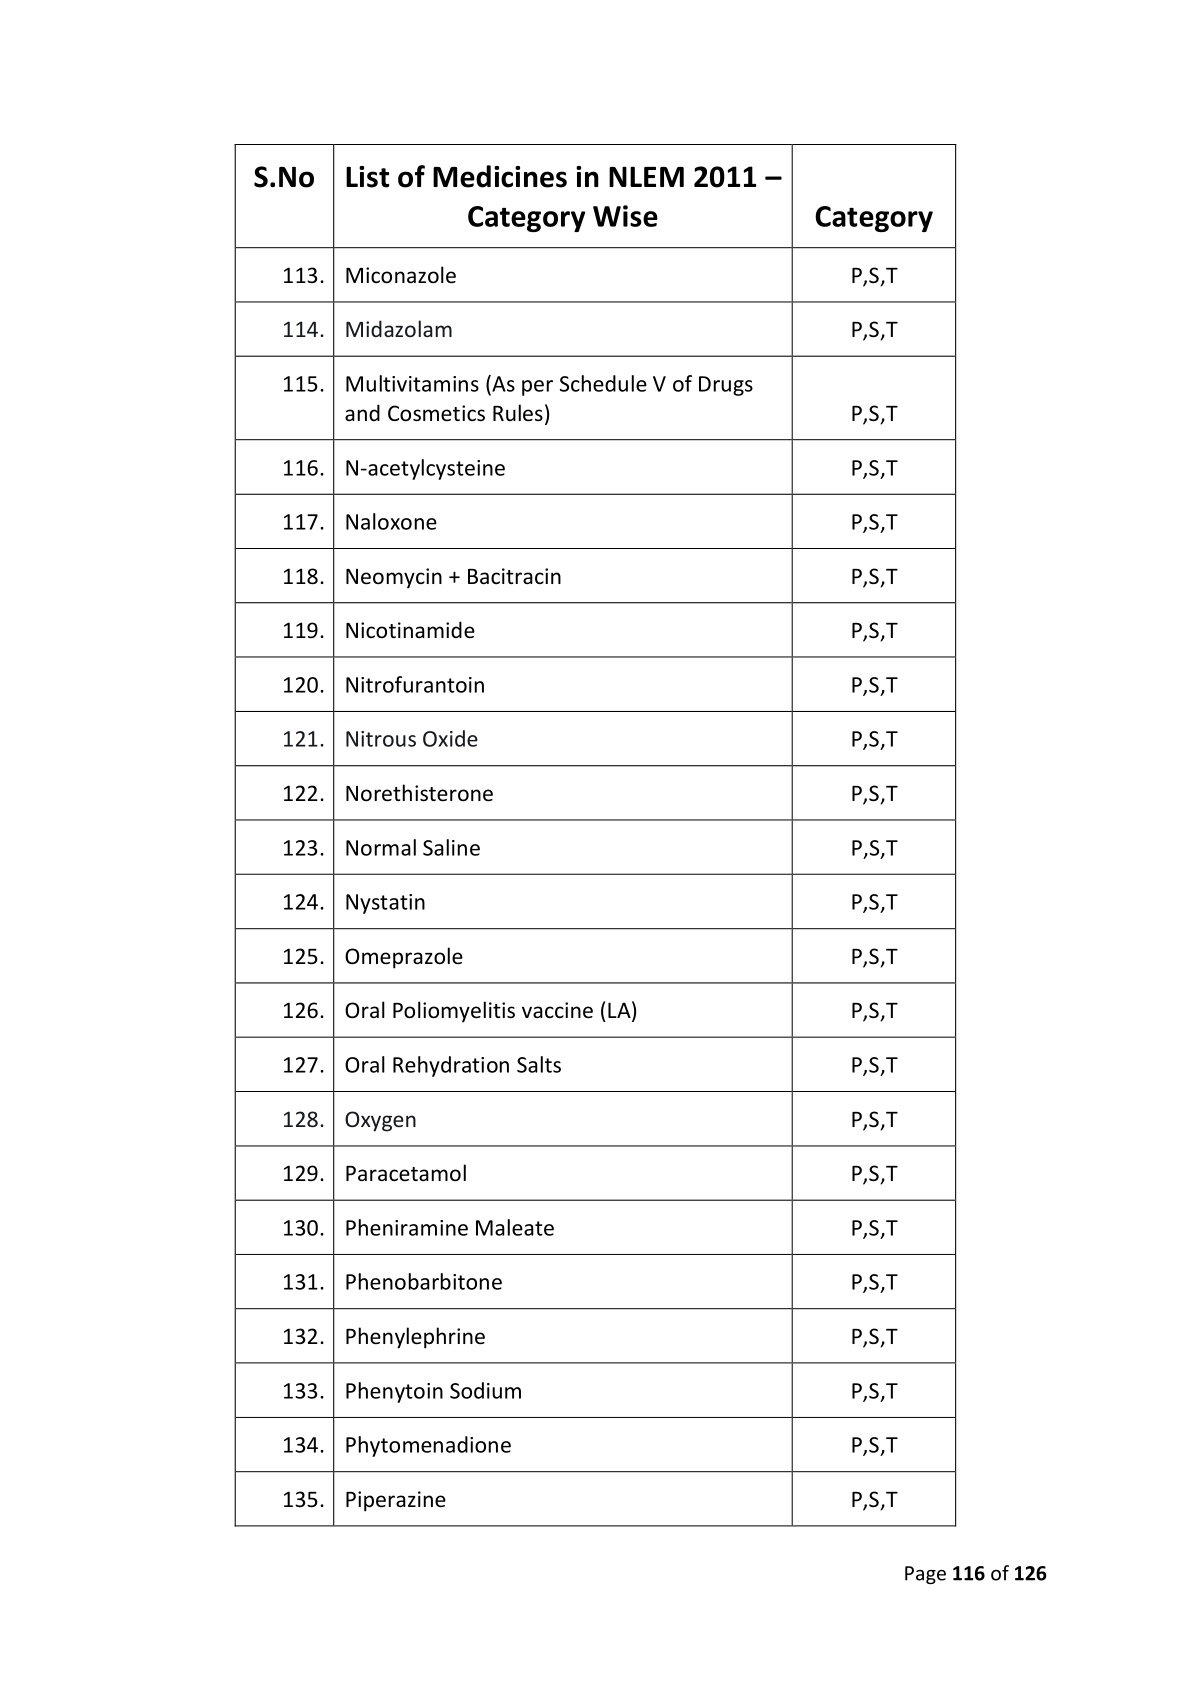full_lined: (228, 138, 962, 1533)
